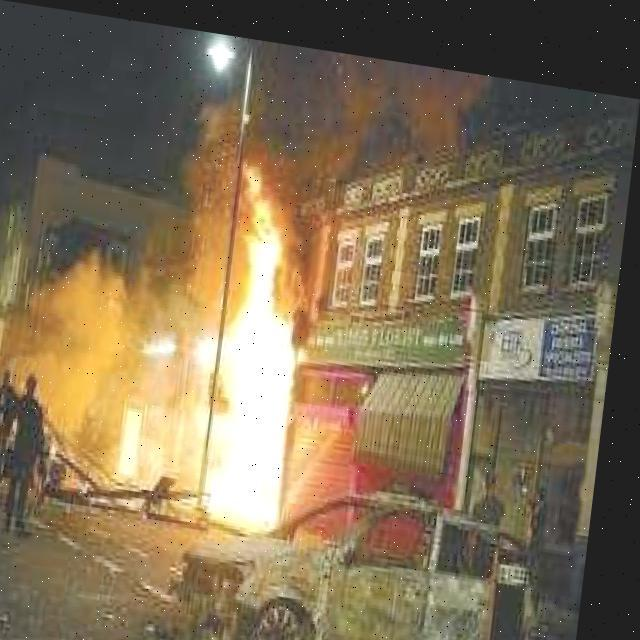Fire: (194, 176, 337, 530)
